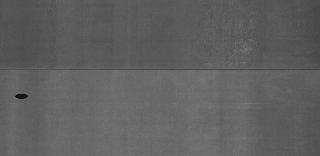punching hole: (14, 92, 31, 100)
welding line: (1, 66, 319, 74)
